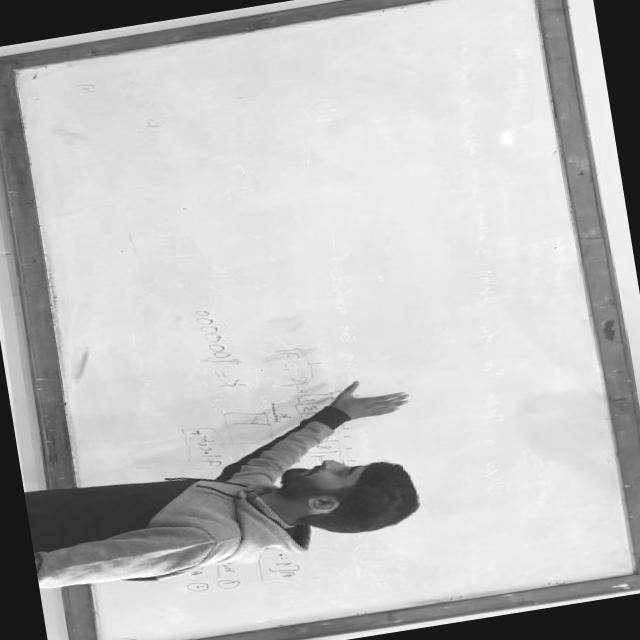Instructor: (28, 423, 436, 601)
White-board: (6, 0, 640, 640)
